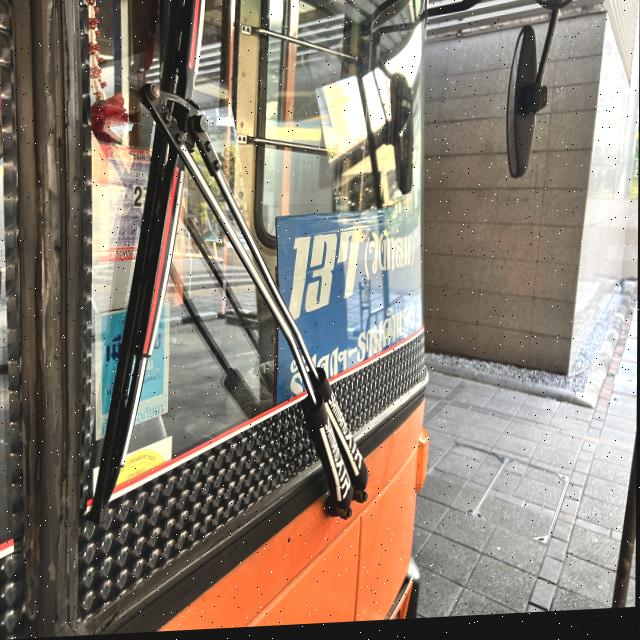BMTA-bus: (0, 0, 441, 640)
Destination-Sign-Normal: (276, 207, 423, 407)
